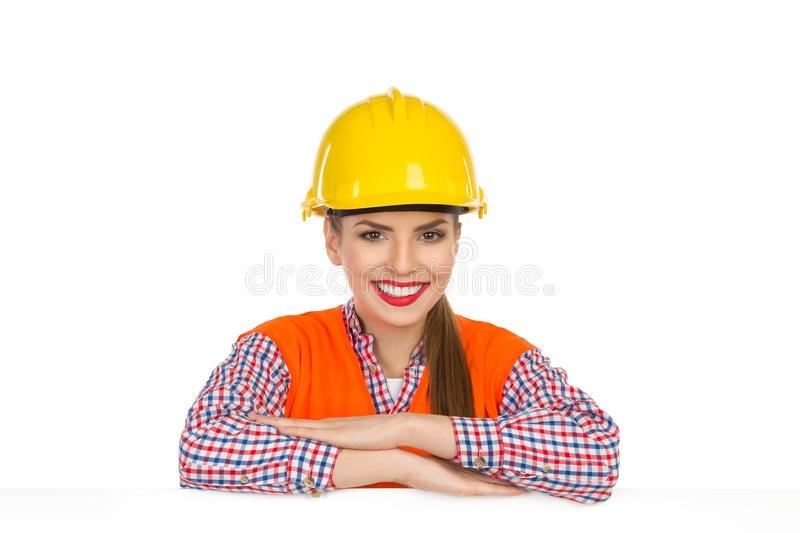helmet: (295, 88, 496, 221)
wear: (232, 315, 538, 486)
